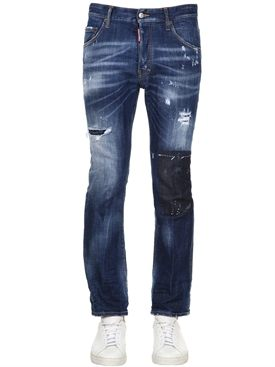Jeans: (76, 2, 204, 320)
